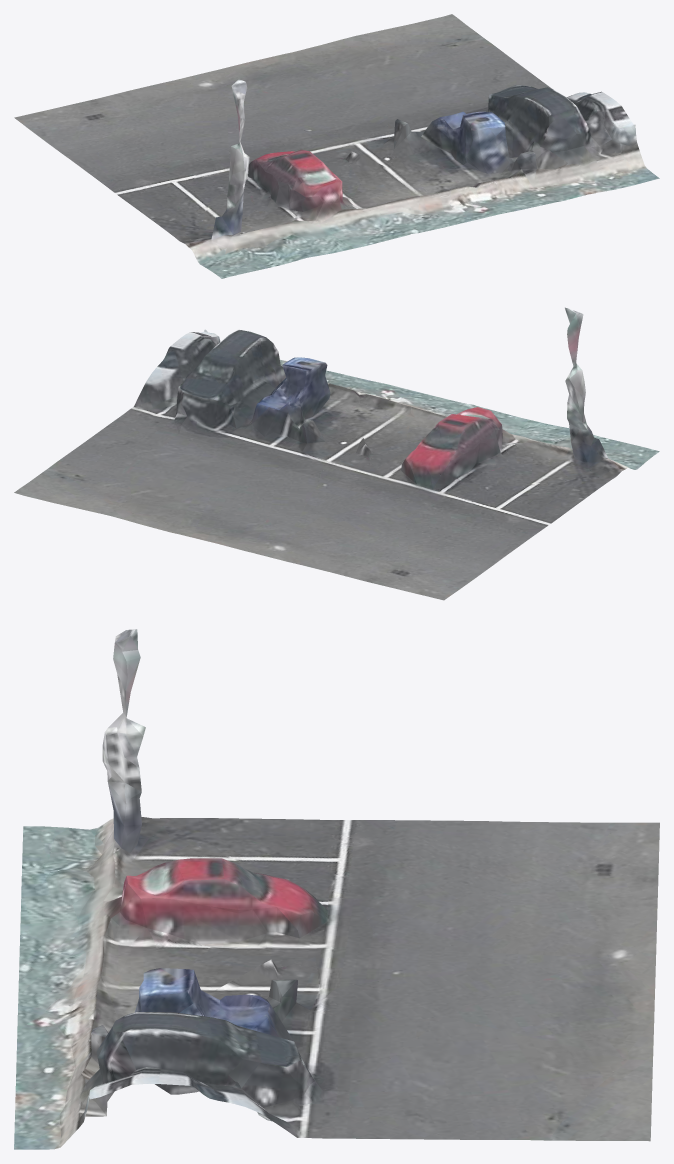
Rendered from Tile_+006_+012_L21_0uuuu110.glb.
3 renders of one model, top to bottom at view 1: azimuth 30°, elevation 25°; view 2: azimuth 150°, elevation 25°; view 3: azimuth 270°, elevation 25°, orthographic. The views are drawn at different scales.
Visible parts, largest first — view 1: rtc; view 2: rtc; view 3: rtc.
Boxes of the visible parts, bbox=[...] form: rtc: bbox=[14, 14, 659, 278]; rtc: bbox=[14, 307, 659, 600]; rtc: bbox=[14, 629, 659, 1149].
Size of the model in its own units: 17.95 by 6.35 by 15.24.
1 material, 1 textured.
